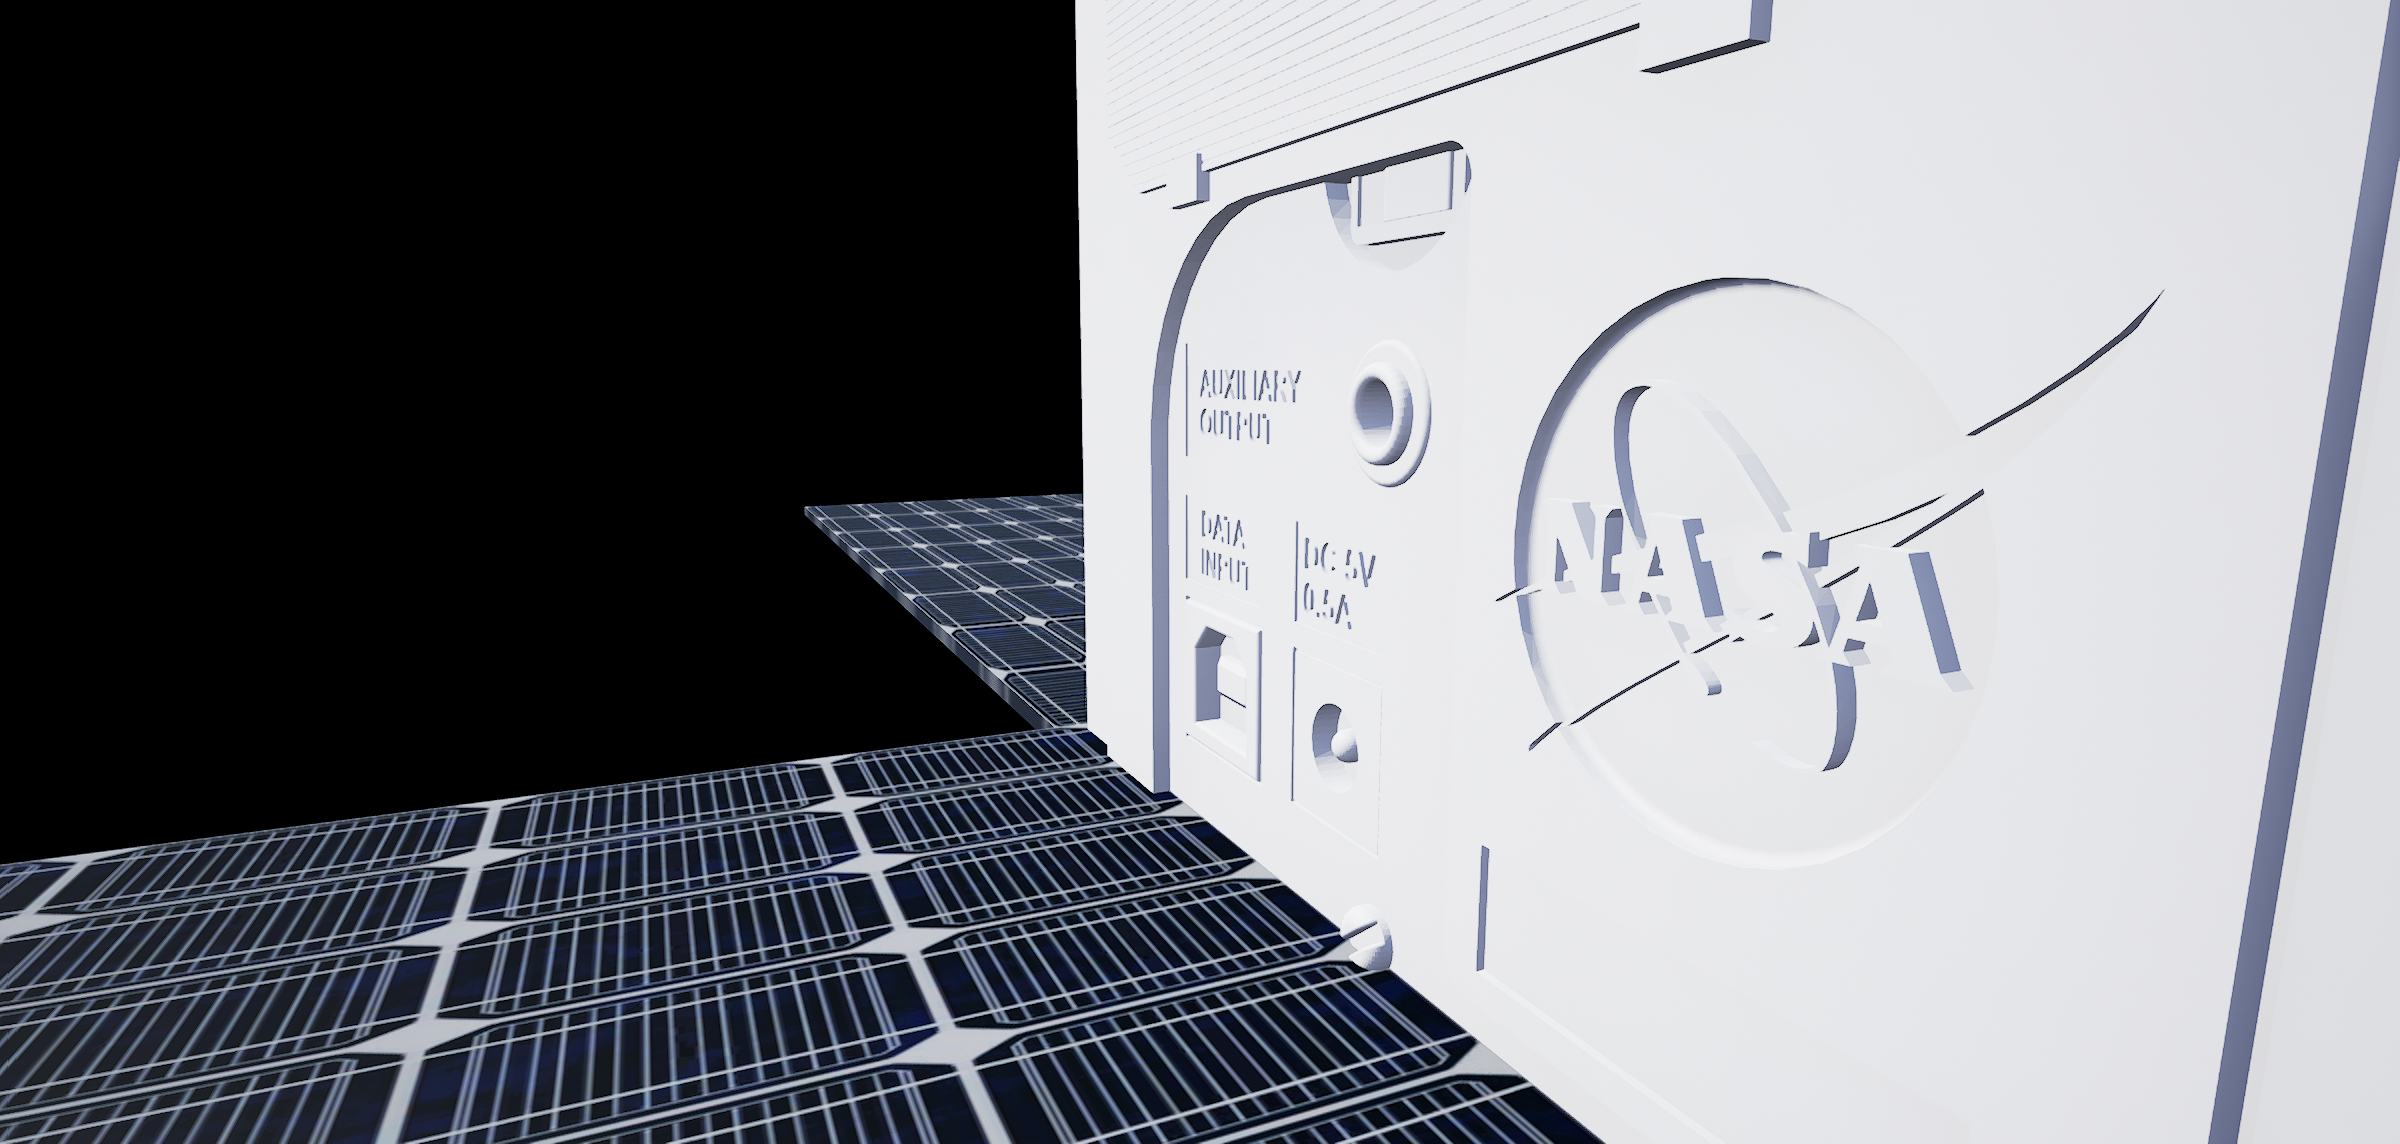aux: (1335, 329, 1440, 495)
dc: (1306, 688, 1368, 802)
usb: (1189, 620, 1254, 767)
